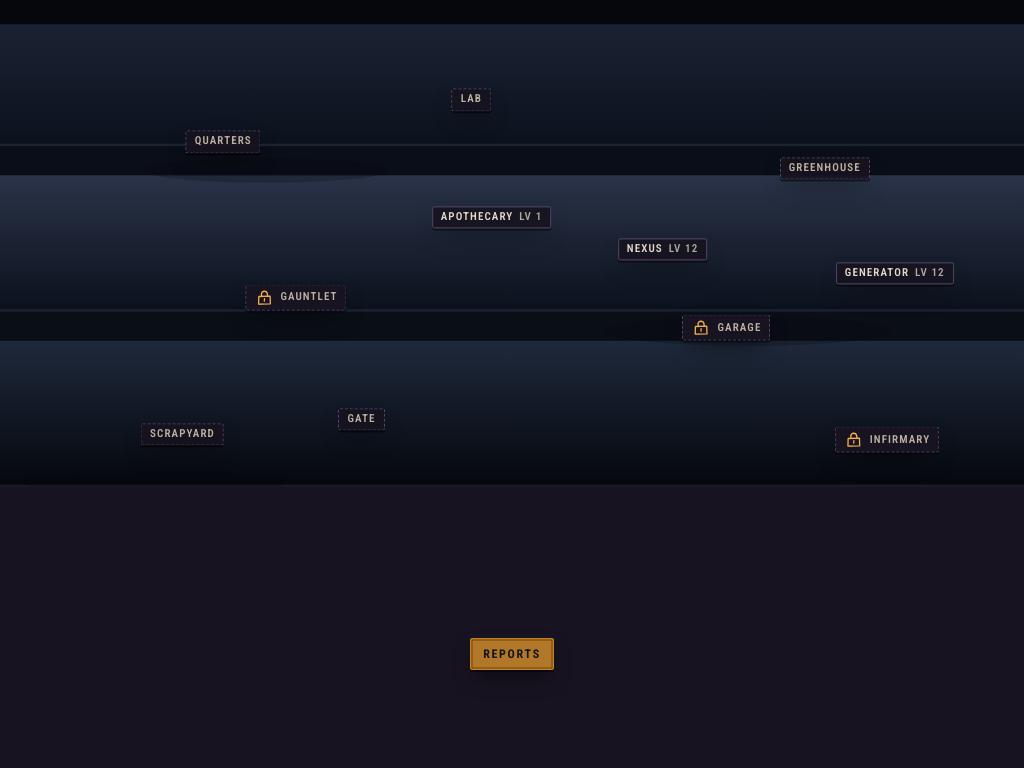
Test: a burn priced past the stores › quotes the server`s price for the burn, which the ground may have cut under the stores
Click the button "Generator Lv 12".
click(895, 273)  # box [836,262,954,285]
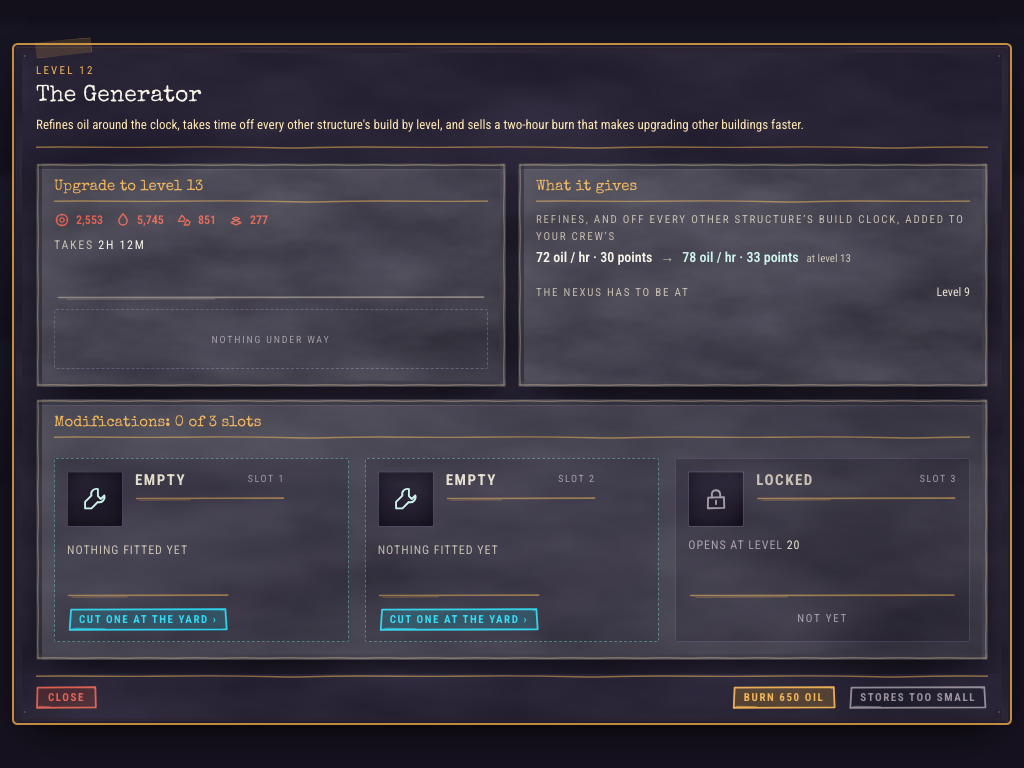
Now the button with test id "build-boost-buy" is enabled, box [732,686,836,709]
